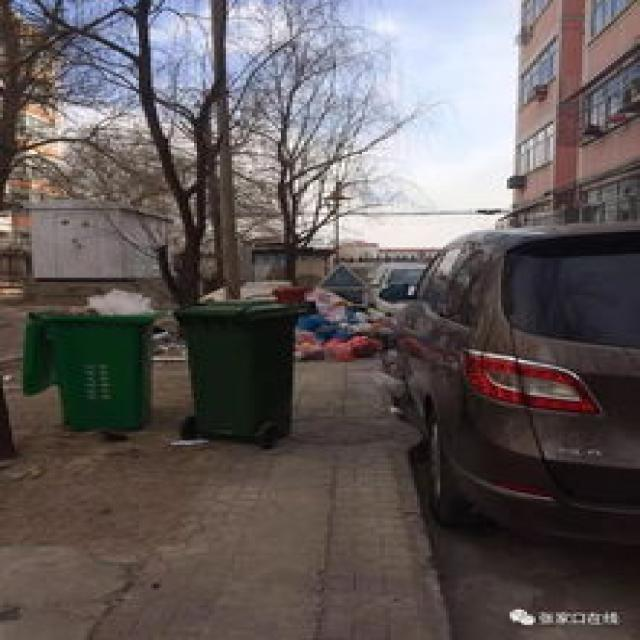garbage: (290, 286, 391, 361)
garbage_bin: (171, 295, 301, 440)
overflow: (20, 286, 162, 429)
